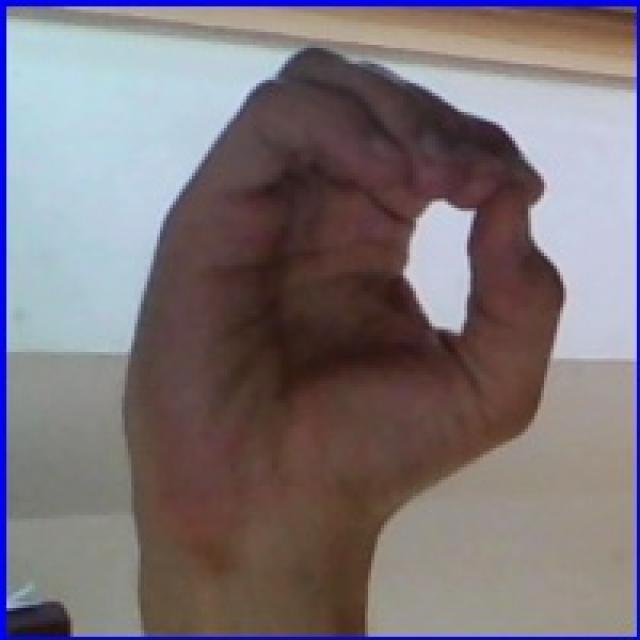Letra-O: (86, 34, 598, 554)
